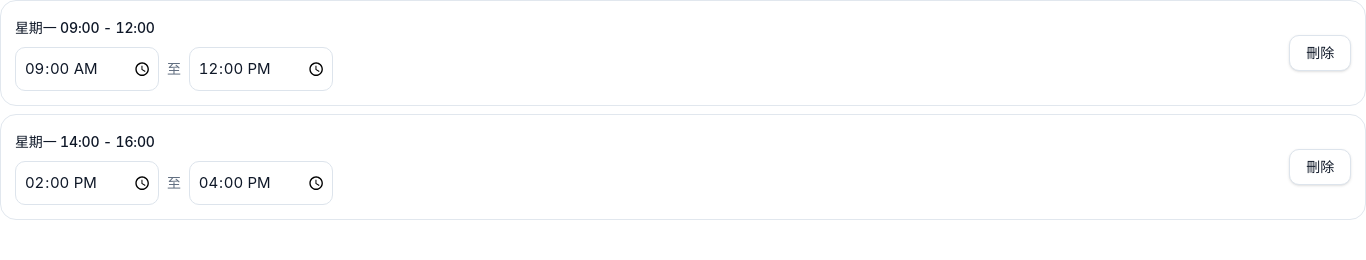
Test: AvailabilityWindowEditList(#1024) › 開始晚於結束 ⇒ 擋;按「還原」回到原值、dirty false
Replace the text in the time field named "星期一 14:00 - 16:00的開始時間" with "17:00": x=87, y=183 [15, 161, 159, 205]
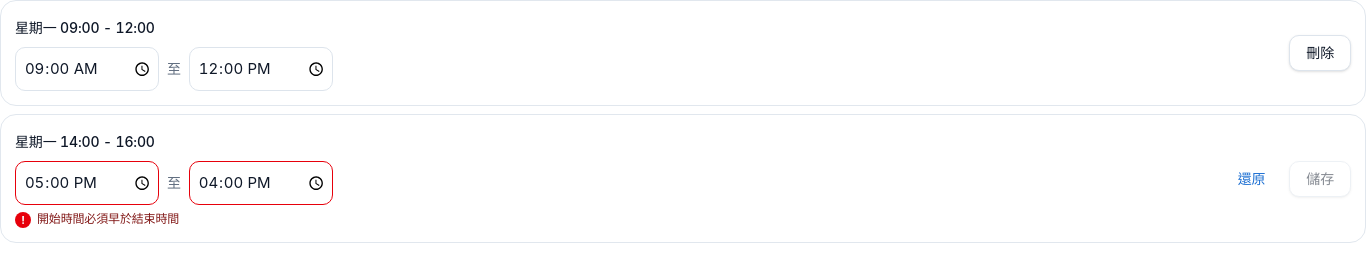
Result: the message shows "開始時間必須早於結束時間" at [37, 211, 179, 226]
Click the button with aria-label "還原星期一 14:00 - 16:00": x=1251, y=178 [1222, 160, 1281, 196]
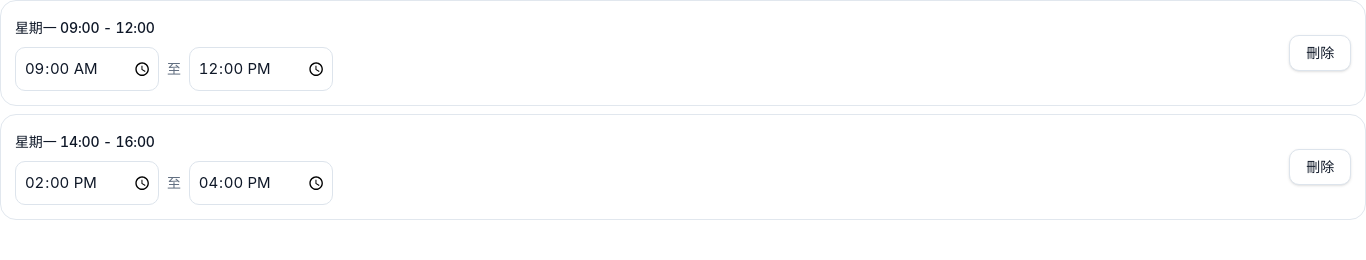
Result: the message "! 開始時間必須早於結束時間" is gone
Result: the time field named "星期一 14:00 - 16:00的開始時間" holds "14:00" at [15, 161, 159, 205]
